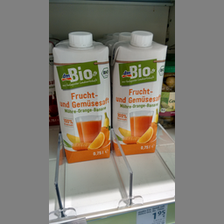juice: (52, 31, 112, 163), (112, 30, 168, 156)
